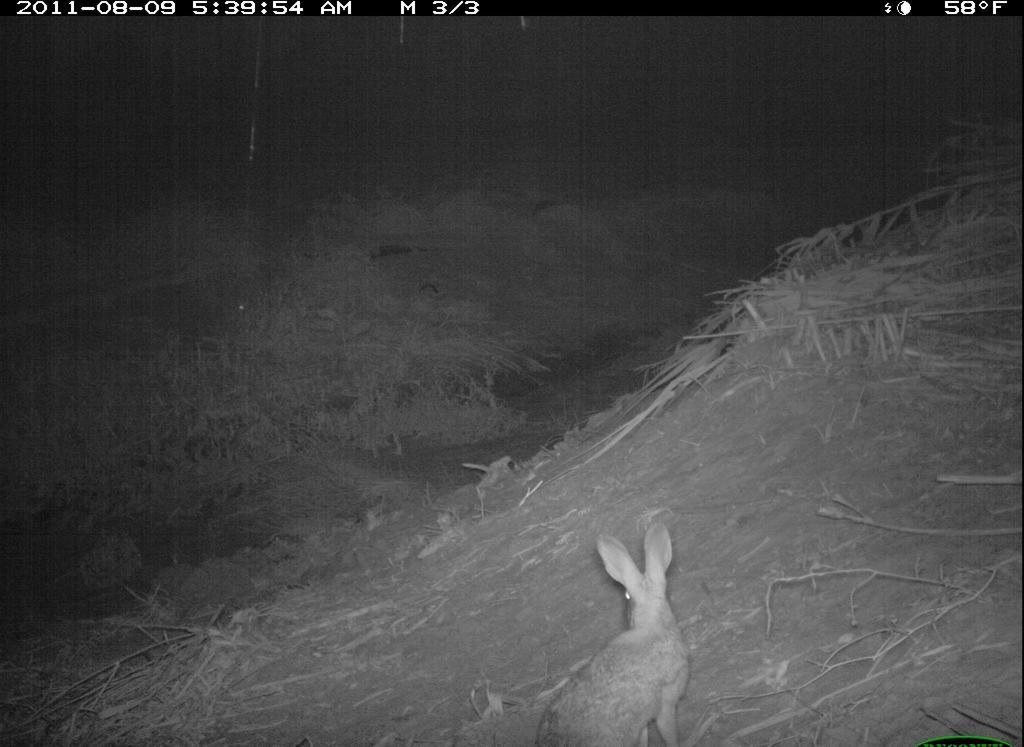rabbit: (534, 525, 708, 744)
